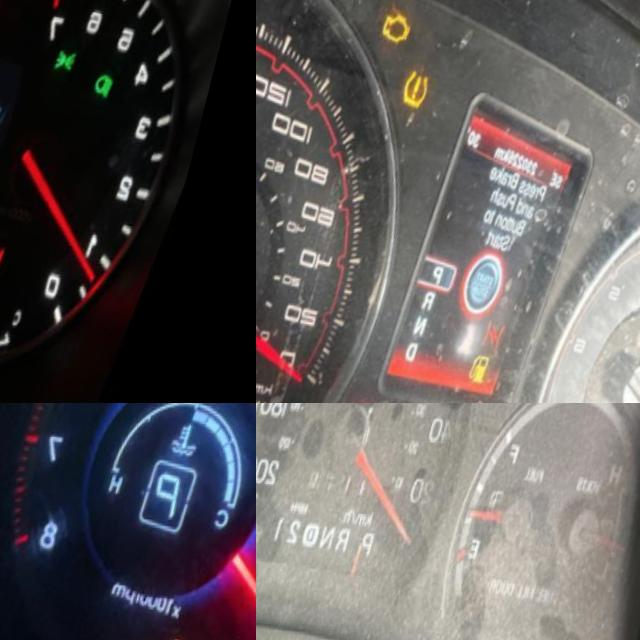Low beam: (101, 58, 134, 93)
Low fuel level: (484, 344, 514, 383)
